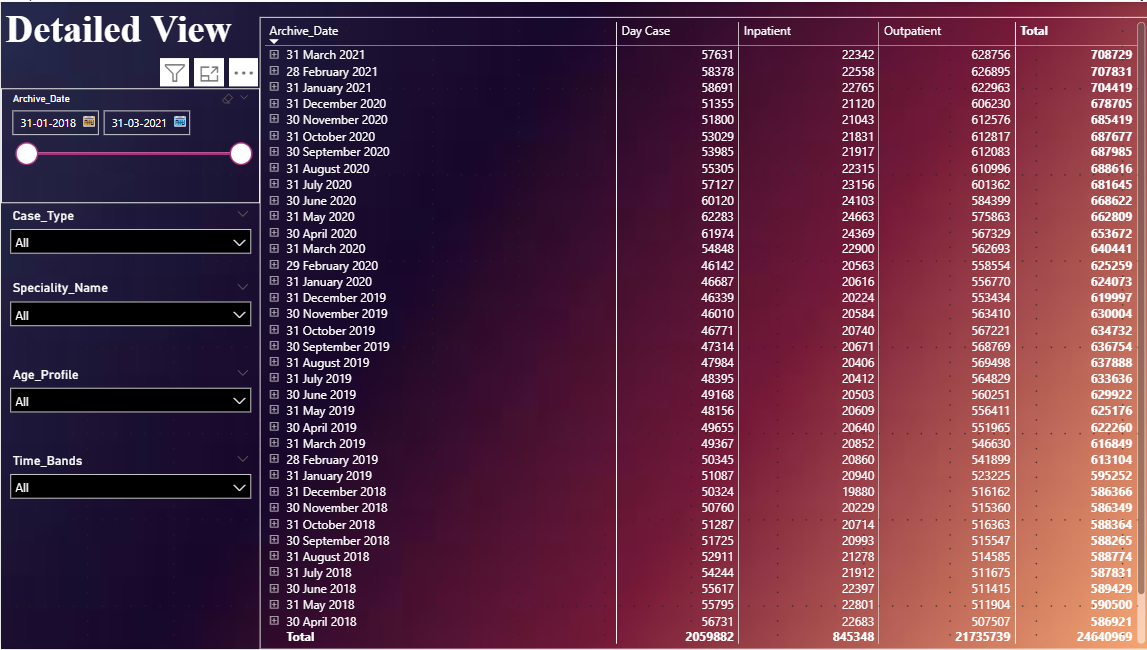

The dashboard page shown, as its layout file describes it:
{"tool":"powerbi","page":{"name":"Detail","canvas":[1280,720],"ordinal":1},"visuals":[{"type":"slicer","fields":{"Values":["All_Data.Archive_Date"]},"box":[0,96,288,128],"z":0},{"type":"slicer","fields":{"Values":["All_Data.Case_Type"]},"box":[0,224,288,96],"z":1000},{"type":"slicer","fields":{"Values":["All_Data.Speciality_Name"]},"box":[0,304,288,96],"z":2000},{"type":"textbox","box":[0,0,272,64],"z":3000},{"type":"slicer","fields":{"Values":["All_Data.Age_Profile"]},"box":[0,400,288,96],"z":4000},{"type":"slicer","fields":{"Values":["All_Data.Time_Bands"]},"box":[0,496,288,112],"z":5000},{"type":"pivotTable","fields":{"Rows":["All_Data.Archive_Date","All_Data.Speciality_Name","All_Data.Age_Profile","All_Data.Time_Bands"],"Columns":["All_Data.Case_Type"],"Values":["Sum(All_Data.Total)"]},"box":[288,16,992,704],"z":6000}]}

Visuals, with their boxes on the page's 1280x720 design canvas (x1, y1, x2, y2). These are canvas units, not pixel positions in the 1147x650 screenshot, which may show the page scaled, cropped or inside an application window:
slicer - All_Data.Archive_Date: 0 96 288 224
slicer - All_Data.Case_Type: 0 224 288 320
slicer - All_Data.Speciality_Name: 0 304 288 400
textbox: 0 0 272 64
slicer - All_Data.Age_Profile: 0 400 288 496
slicer - All_Data.Time_Bands: 0 496 288 608
pivotTable - All_Data.Archive_Date x All_Data.Speciality_Name: 288 16 1280 720
